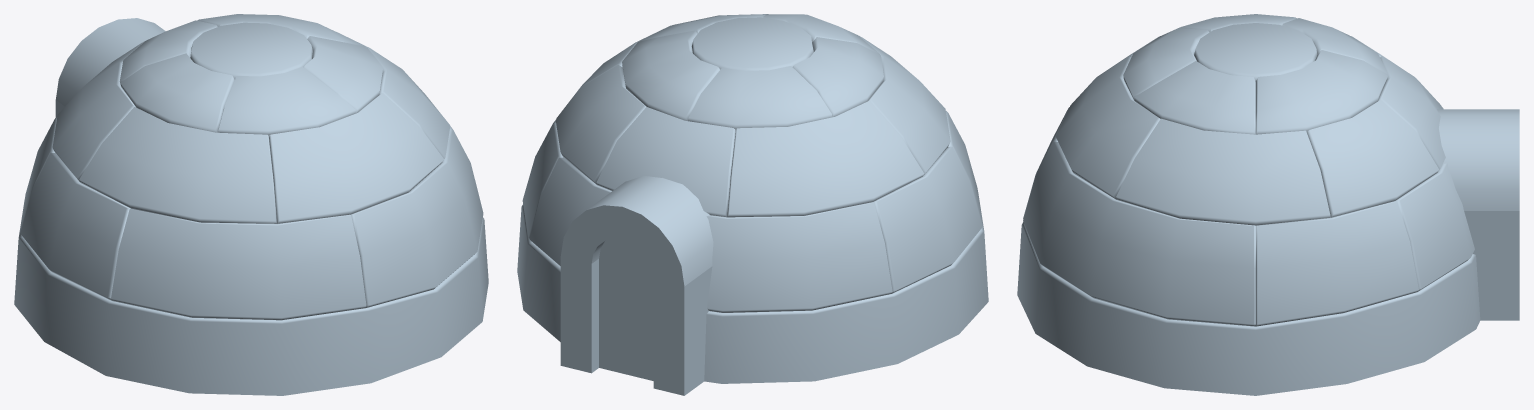
Rendered from mdl_iglu01.fbx.
The picture shows the model from 3 angles, left to right: view 1: azimuth 30°, elevation 25°; view 2: azimuth 150°, elevation 25°; view 3: azimuth 270°, elevation 25°; orthographic projection.
Visible parts, largest first — view 1: mdl_iglu02; view 2: mdl_iglu02; view 3: mdl_iglu02.
Part boxes in pixels (bbox=[...]): mdl_iglu02: bbox=[14, 14, 488, 395]; mdl_iglu02: bbox=[517, 14, 988, 395]; mdl_iglu02: bbox=[1017, 14, 1519, 395].
Bounding box in the file's own units: 143 × 81.86 × 151.
1 material, 1 textured.
